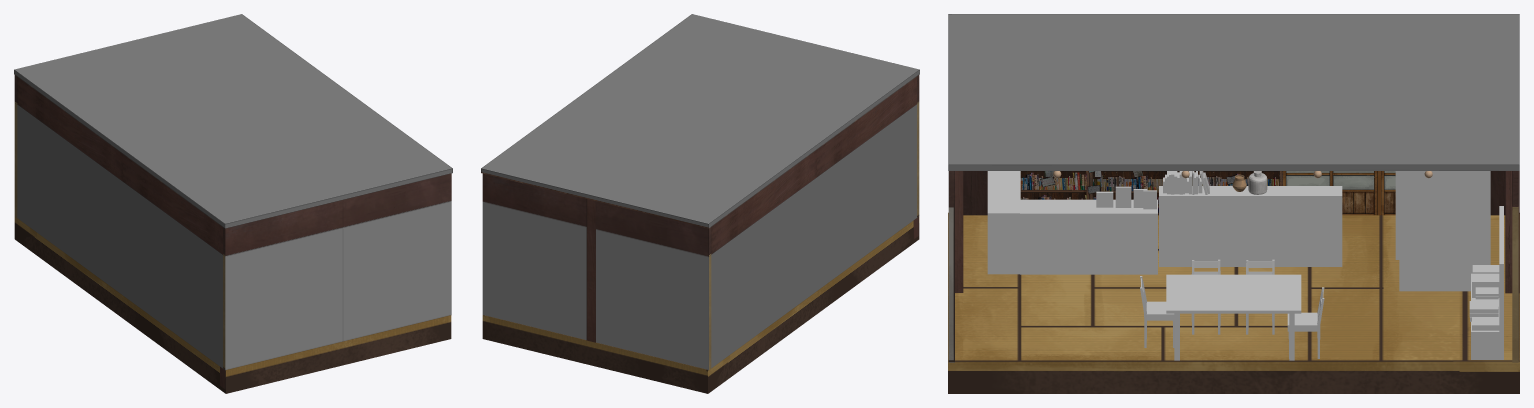
Rendered from bookstore02.fbx.
The picture shows the model from 3 angles, left to right: view 1: azimuth 30°, elevation 25°; view 2: azimuth 150°, elevation 25°; view 3: azimuth 270°, elevation 25°; orthographic projection. The views are drawn at different scales.
Parts seen in each view (by area): view 1: Cube.122, Cube.109, Cube.108, Cube.096, Cube.110; view 2: Cube.122, Cube.110, Cube.108, Cube.096, Cube.007, Cube.109; view 3: Cube.122, Cube.096, Cube.006, Cube.025, Cube.032, Cube.108, Cube.028, Cube.042, Cube.036, Cube.110, Cube.109, Cube.007 (+3 smaller).
Boxes of the visible parts, x1,y1,x2,y2 form: Cube.122: (14,14,452,228); Cube.109: (223,173,451,370); Cube.108: (17,77,222,368); Cube.096: (14,216,451,393); Cube.110: (14,75,17,217); Cube.122: (481,14,919,228); Cube.110: (482,173,711,369); Cube.108: (711,77,916,367); Cube.096: (482,216,919,393); Cube.007: (586,199,595,342); Cube.109: (917,75,919,217); Cube.122: (948,14,1519,170); Cube.096: (948,212,1519,393); Cube.006: (1159,186,1342,266); Cube.025: (1399,171,1490,291); Cube.032: (1020,199,1157,274); Cube.108: (963,171,1505,215); Cube.028: (1166,274,1301,313); Cube.042: (987,171,1020,274); Cube.036: (1471,206,1503,359); Cube.110: (1512,171,1518,362); Cube.109: (948,171,954,362); Cube.007: (1505,171,1519,293).
Size of the model in its own units: 266 by 190 by 427.
